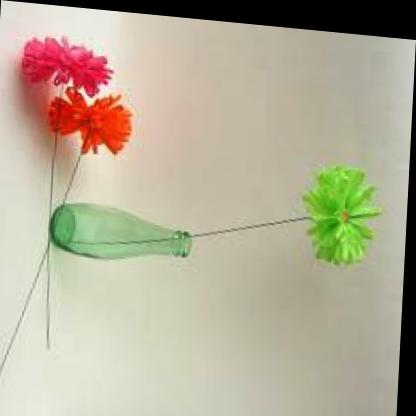Plastic: (4, 30, 147, 171), (270, 134, 386, 286), (43, 193, 207, 278)
